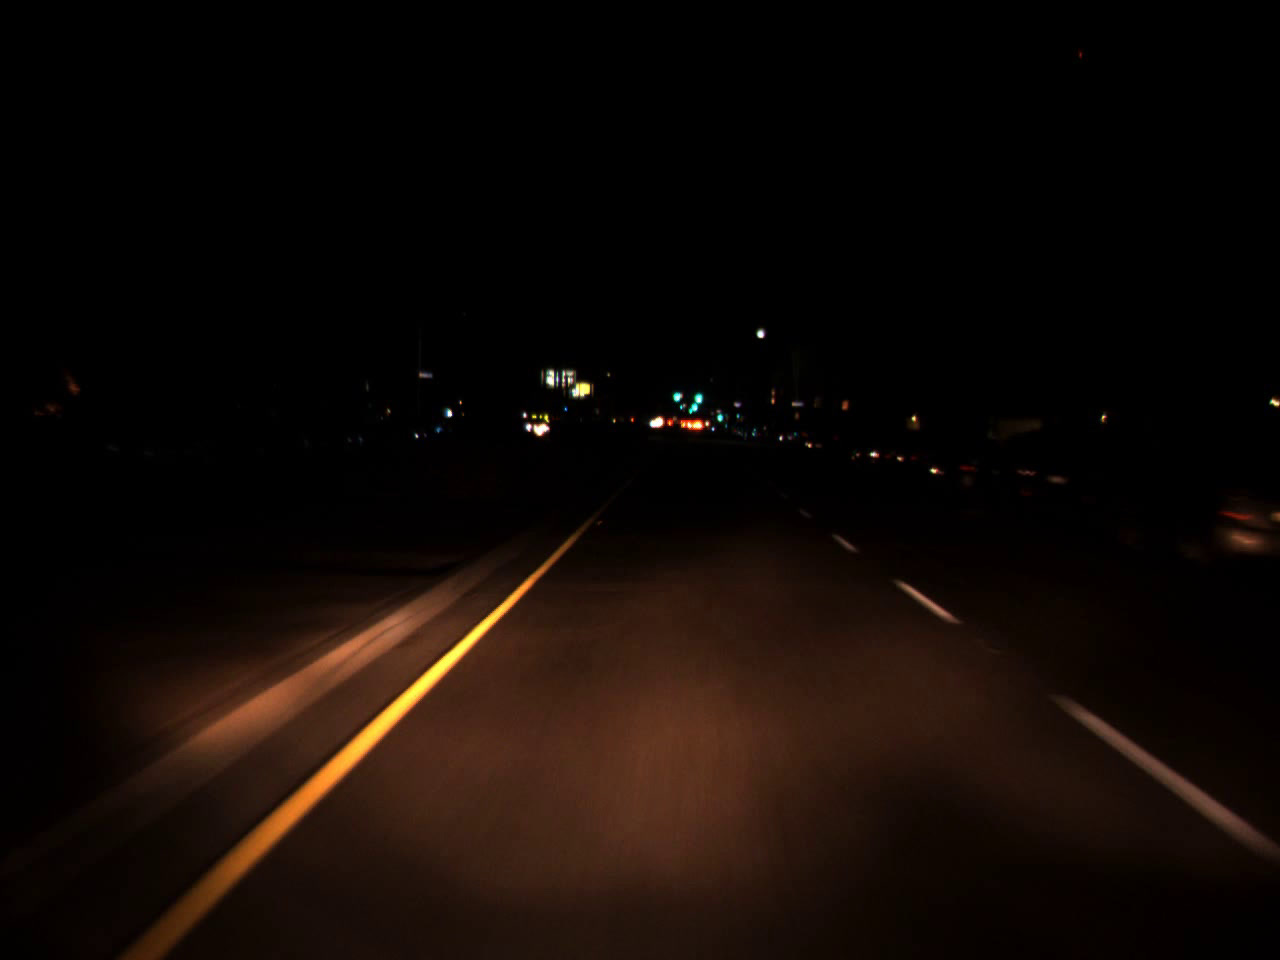go: (687, 390, 697, 417), (693, 382, 703, 406), (671, 383, 681, 404), (716, 407, 723, 422)
